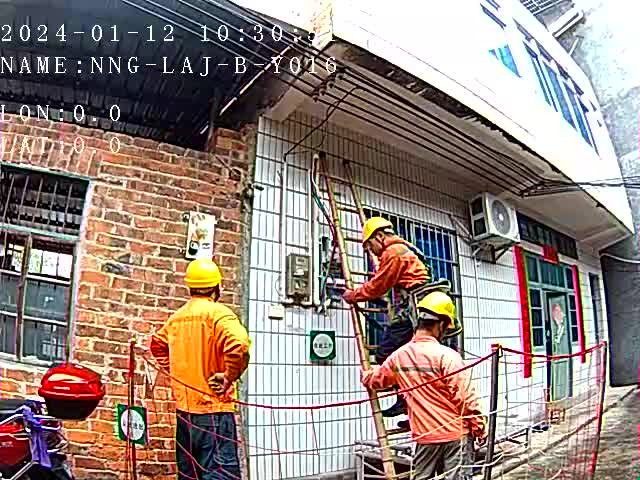badge: (150, 333, 169, 357)
downcloth: (411, 438, 477, 480)
downsuit: (177, 415, 244, 480)
halt: (414, 290, 456, 340), (183, 257, 225, 298), (361, 217, 397, 254)
hand: (209, 372, 229, 396)
inear: (371, 229, 386, 246)
intosign: (118, 403, 147, 444)
person: (367, 290, 497, 480), (149, 257, 258, 480), (349, 215, 437, 351)
worksign: (311, 331, 335, 360)
yupsuit: (366, 335, 485, 432), (153, 293, 256, 405), (348, 241, 423, 304)
